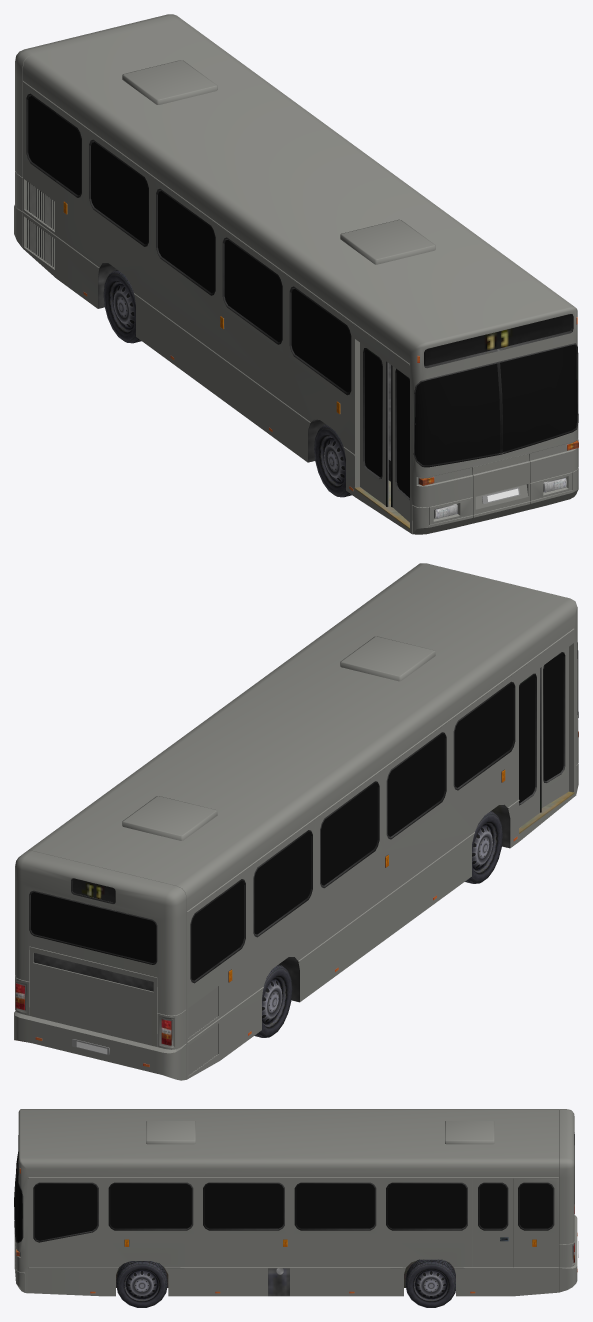
Rendered from Volvo_b6.fbx.
3 renders of one model, top to bottom at view 1: azimuth 30°, elevation 25°; view 2: azimuth 150°, elevation 25°; view 3: azimuth 270°, elevation 25°, orthographic. The views are drawn at different scales.
Parts seen in each view (by area): view 1: Volvo_b6_body, Volvo_b6_door_left, Volvo_b6_door_right, Volvo_b6_wheel_RR_1, Volvo_b6_wheel_RF_1; view 2: Volvo_b6_body, Volvo_b6_door_right, Volvo_b6_door_left, Volvo_b6_wheel_RR_1, Volvo_b6_wheel_RF_1; view 3: Volvo_b6_body, Volvo_b6_wheel_RL_1, Volvo_b6_wheel_FL_1.
Boxes of the visible parts, x1,y1,x2,y2 form: Volvo_b6_body: (14, 14, 578, 534); Volvo_b6_door_left: (360, 343, 388, 506); Volvo_b6_door_right: (391, 365, 409, 522); Volvo_b6_wheel_RR_1: (103, 270, 141, 343); Volvo_b6_wheel_RF_1: (314, 424, 351, 497); Volvo_b6_body: (14, 563, 578, 1080); Volvo_b6_door_right: (541, 647, 568, 807); Volvo_b6_door_left: (519, 667, 541, 827); Volvo_b6_wheel_RR_1: (254, 964, 292, 1037); Volvo_b6_wheel_RF_1: (465, 811, 502, 883); Volvo_b6_body: (14, 1109, 577, 1296); Volvo_b6_wheel_RL_1: (405, 1259, 455, 1307); Volvo_b6_wheel_FL_1: (116, 1261, 167, 1307).
Size of the model in its own units: 233 by 298 by 1004.
6 materials, 2 textured.
